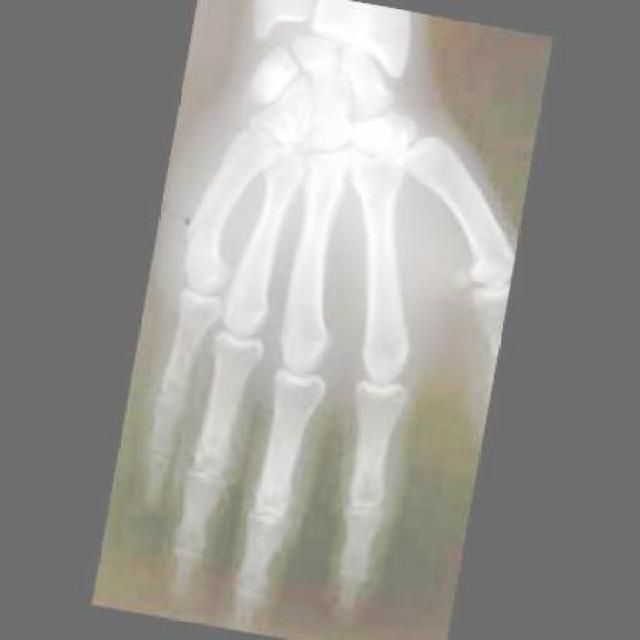Fracture: (173, 205, 219, 244)
